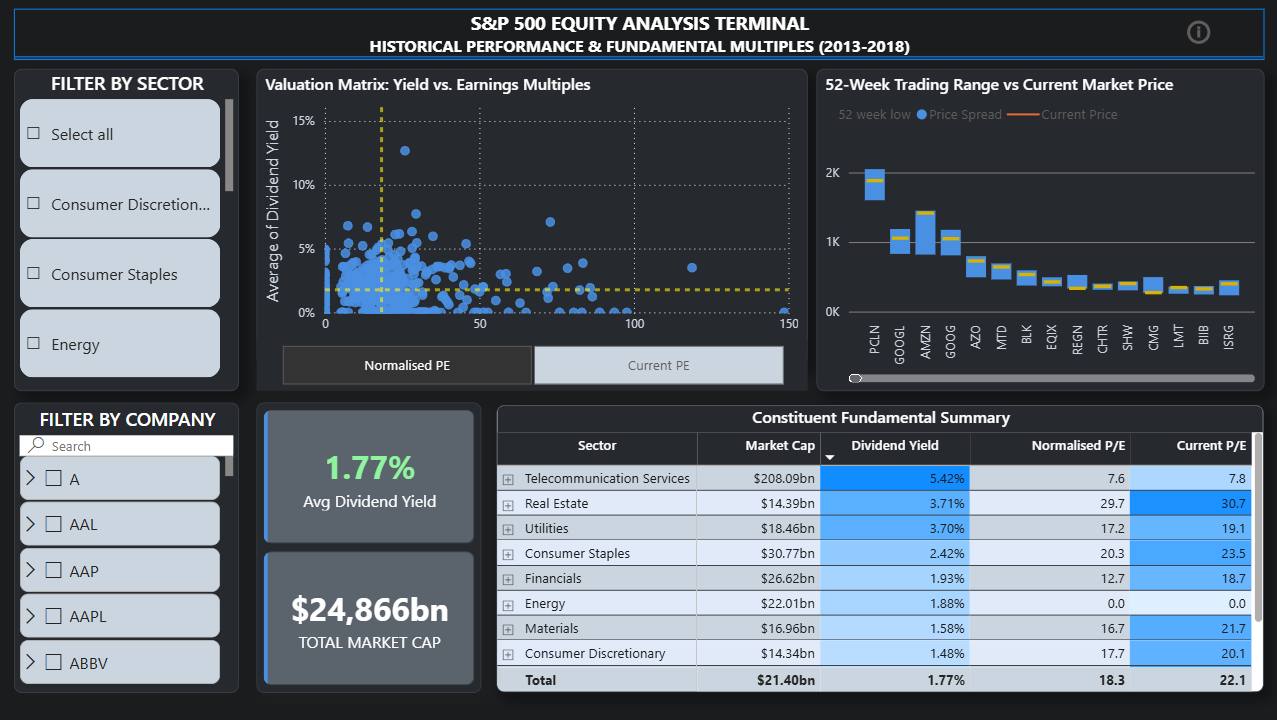

The dashboard page shown, as its layout file describes it:
{"tool":"powerbi","page":{"name":"Sector Analysis","canvas":[1280,720],"ordinal":0},"visuals":[{"type":"scatterChart","title":"Valuation Matrix: Yield vs. Earnings Multiples","fields":{"X":["financials.Normalised P/E 5yr measure"],"Y":["Avg(financials.Dividend Yield)"],"Category":["financials.Symbol"]},"box":[257.1,69,551.2,296.4],"z":0},{"type":"advancedSlicerVisual","title":"FILTER BY SECTOR","fields":{"Values":["financials.Sector"]},"box":[15,68.8,225,322.5],"z":1000},{"type":"lineStackedColumnComboChart","title":"52-Week Trading Range vs Current Market Price","fields":{"Category":["financials.Symbol"],"Y":["Max(financials.52 week low)","all_stocks_5yr.Price Spread"],"Y2":["Max(Final Day Prices.Corrected Price 2018)"]},"box":[817.9,69,447.6,322.6],"z":2000},{"type":"pivotTable","title":"Constituent Fundamental Summary","fields":{"Values":["Median(financials.Market Cap)","Median(financials.Dividend Yield)","Median(financials.Normalised P/E 5yr)","Median(financials.Adjusted P/E)"],"Rows":["financials.Sector","financials.Symbol"]},"box":[497.5,405,767.5,287.5],"z":3000},{"type":"slicer","fields":{"Values":["Select PE Metric.Select PE Metric"]},"box":[257.1,339.3,551.2,52.4],"z":4000},{"type":"shape","title":"S&P 500 EQUITY ANALYSIS TERMINAL","box":[15.5,8.3,1250,51.2],"z":5000},{"type":"listSlicer","title":"FILTER BY COMPANY","fields":{"Values":["financials.Symbol","financials.Name"]},"box":[15,402.5,225,290],"z":6000},{"type":"cardVisual","title":"AVG. DIVIDEND YIELD","fields":{"Data":["Median(financials.Dividend Yield)","financials.KPI MARKET CAP"]},"box":[257.5,402.5,225,290],"z":7000},{"type":"actionButton","box":[1184,16,96,32],"z":8000}]}

Visuals, with their boxes in screenshot pixels (x1, y1, x2, y2), scaled from the page's 1280x720 canvas onto the 1277x720 screenshot:
"Valuation Matrix: Yield vs. Earnings Multiples" scatterChart: 256:69:806:365
"FILTER BY SECTOR" advancedSlicerVisual: 15:69:239:391
"52-Week Trading Range vs Current Market Price" lineStackedColumnComboChart: 816:69:1263:392
"Constituent Fundamental Summary" pivotTable: 496:405:1262:692
slicer - Select PE Metric.Select PE Metric: 256:339:806:392
"S&P 500 EQUITY ANALYSIS TERMINAL" shape: 15:8:1263:60
"FILTER BY COMPANY" listSlicer: 15:402:239:692
"AVG. DIVIDEND YIELD" cardVisual: 257:402:481:692
actionButton: 1181:16:1276:48
